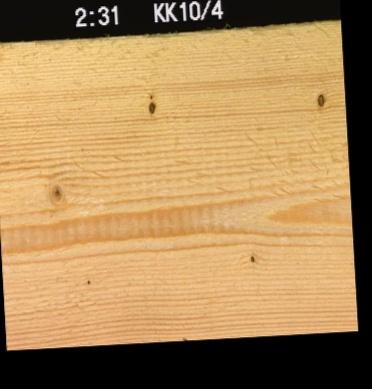dry_knot: (144, 97, 157, 117), (313, 90, 326, 107)
small_knot: (245, 251, 256, 265)
sound_knot: (44, 180, 67, 209)
